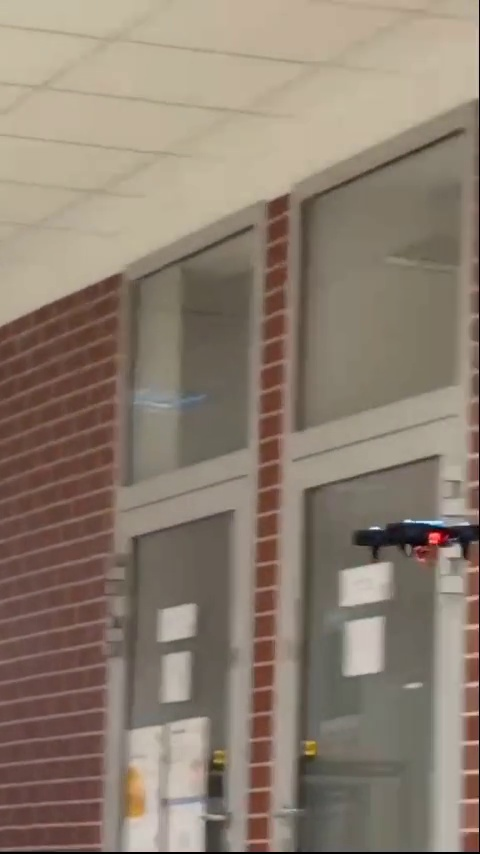drone: (351, 518, 480, 566)
